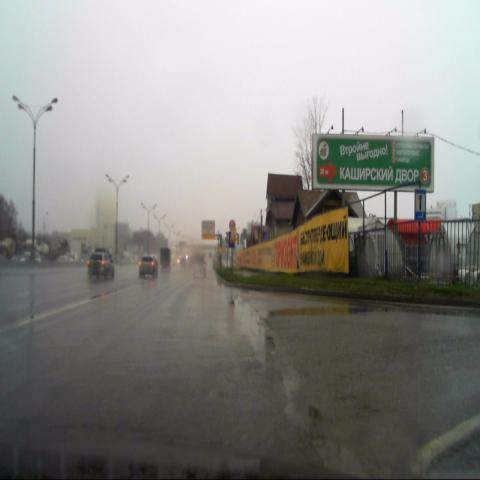7_4: (414, 190, 426, 221)
